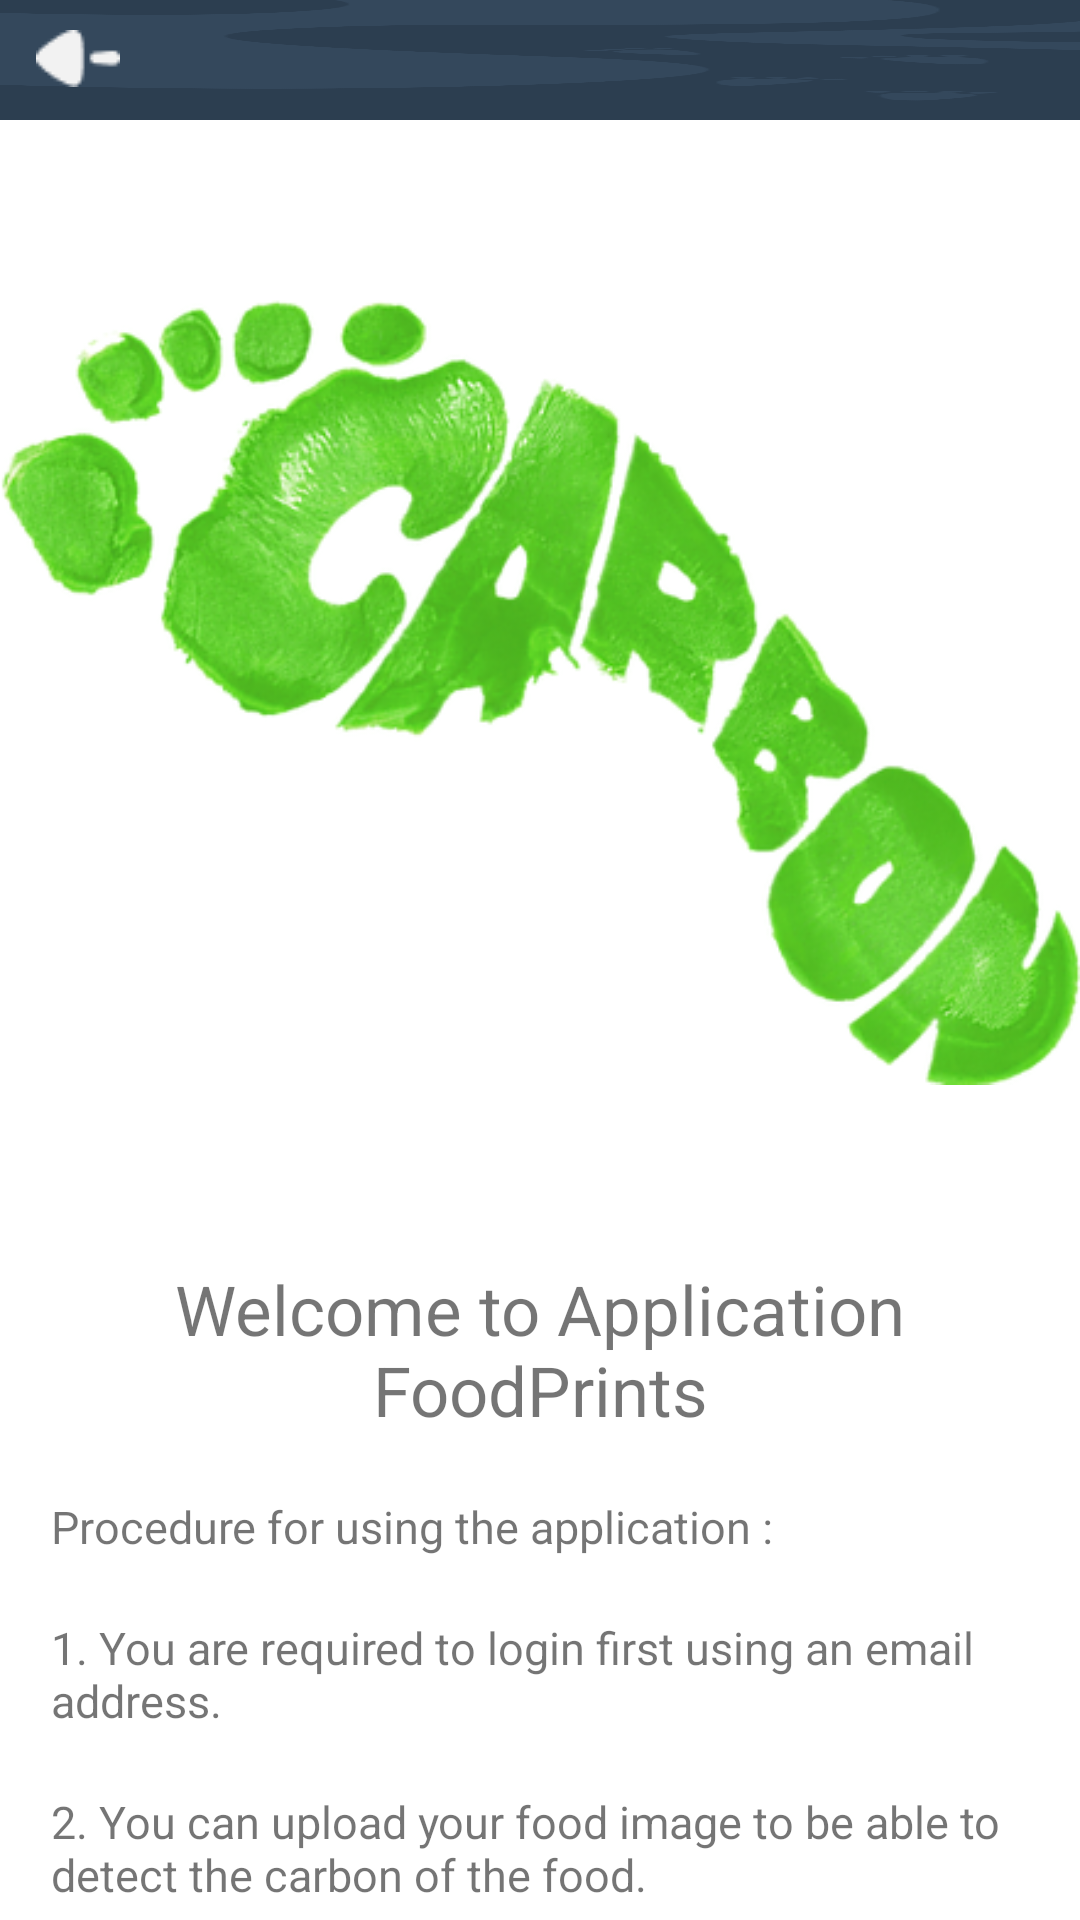

Where to tap for icons on this 1080 × 1920 app screen, as (x=x, y=y):
arrow: (x=78, y=58)
